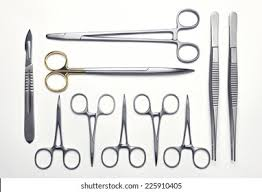heavy forceps: (226, 10, 240, 163), (207, 10, 221, 162)
heavy needle holder: (44, 7, 201, 64)
metz scissors: (42, 48, 196, 93)
mosquito clamp: (161, 92, 212, 170), (33, 92, 82, 171), (131, 93, 180, 169), (68, 91, 116, 168), (100, 92, 147, 169)
scalpel: (21, 27, 36, 145)
